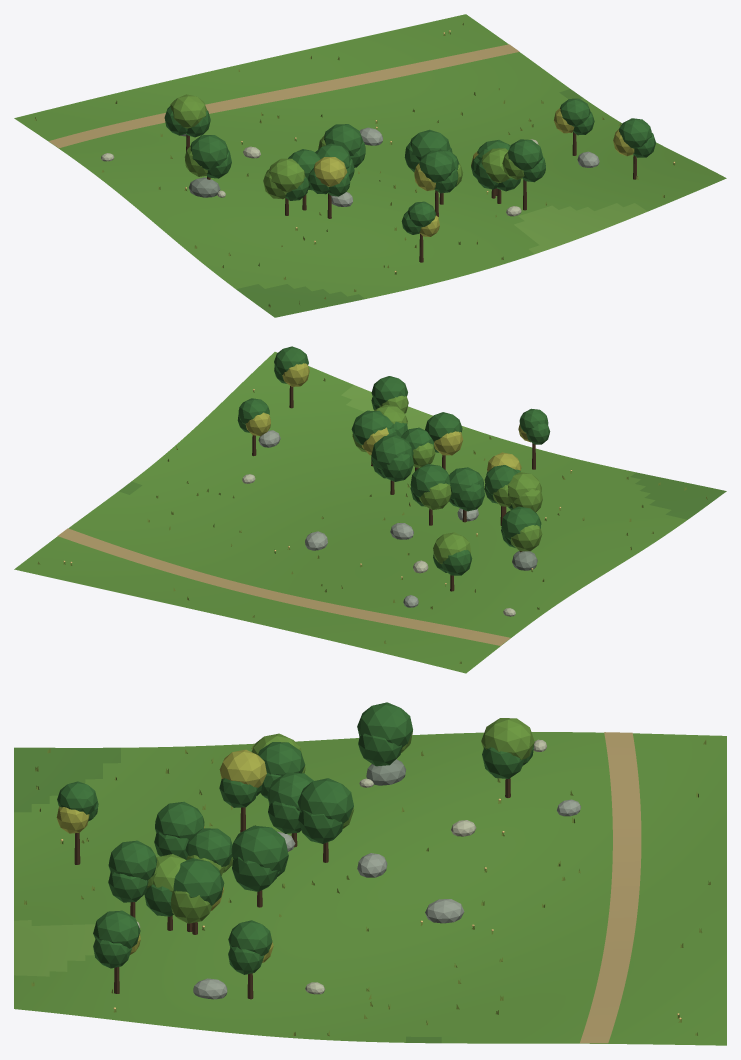
The model's file is Chunk_X1_Y0_Z-1.fbx.
3 renders of one model, top to bottom at view 1: azimuth 30°, elevation 25°; view 2: azimuth 150°, elevation 25°; view 3: azimuth 270°, elevation 25°, orthographic. The views are drawn at different scales.
Visible parts, largest first — view 1: Terrain.030, Canopies.029, Path.004, Rocks.030, Trunks.029, GroundCover.030; view 2: Terrain.030, Canopies.029, Path.004, Rocks.030, Trunks.029, GroundCover.030; view 3: Terrain.030, Canopies.029, Path.004, Rocks.030, Trunks.029, GroundCover.030.
Part boxes in pixels (bbox=[...]): Terrain.030: bbox=[14, 14, 726, 317]; Canopies.029: bbox=[164, 94, 655, 236]; Path.004: bbox=[49, 44, 519, 148]; Rocks.030: bbox=[101, 127, 599, 216]; Trunks.029: bbox=[186, 132, 637, 262]; GroundCover.030: bbox=[34, 22, 675, 307]; Terrain.030: bbox=[14, 352, 726, 673]; Canopies.029: bbox=[237, 346, 550, 575]; Path.004: bbox=[58, 528, 510, 645]; Rocks.030: bbox=[242, 430, 537, 616]; Trunks.029: bbox=[252, 386, 535, 591]; GroundCover.030: bbox=[37, 378, 707, 663]; Terrain.030: bbox=[14, 732, 726, 1045]; Canopies.029: bbox=[56, 702, 534, 974]; Path.004: bbox=[580, 732, 641, 1043]; Rocks.030: bbox=[137, 739, 580, 999]; Trunks.029: bbox=[74, 778, 510, 999]; GroundCover.030: bbox=[24, 740, 710, 1035].
Bounding box in the file's own units: 100 × 16.79 × 100.
